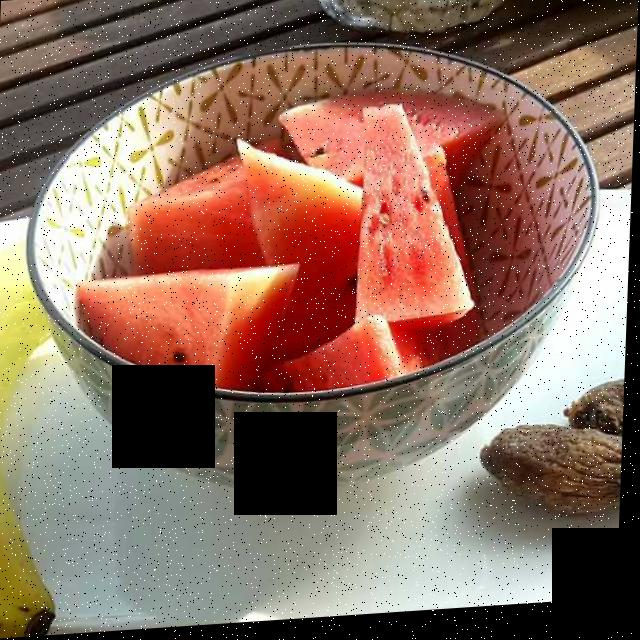watermelon-fresh: (81, 105, 493, 389)
